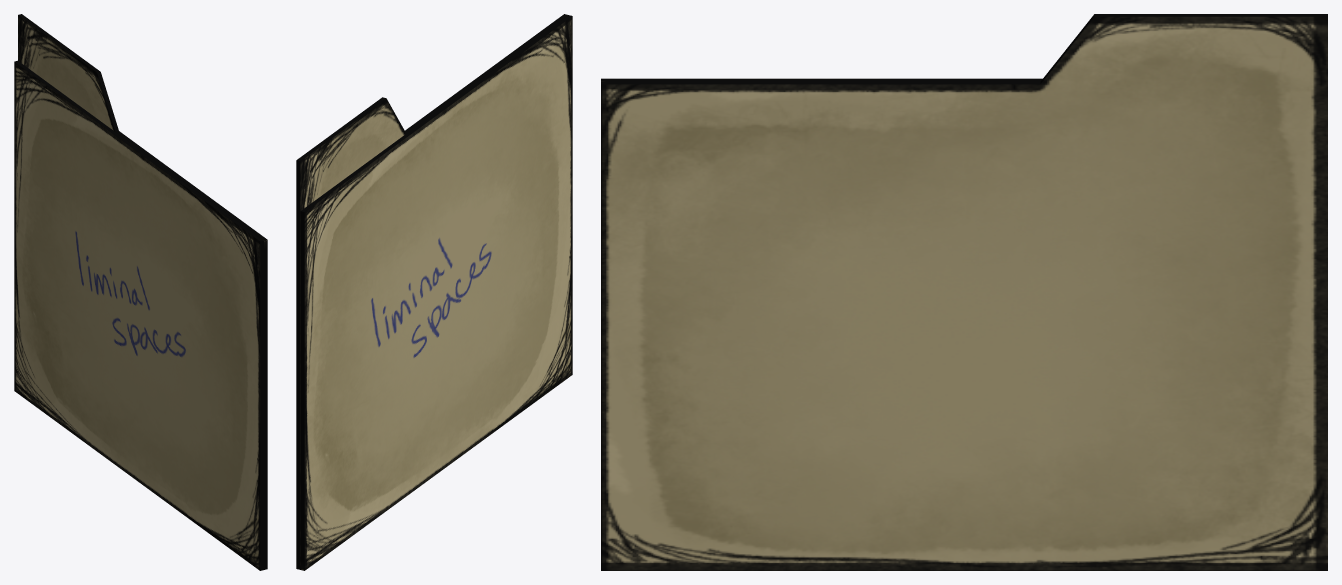
File: folder_glass.fbx
3 renders of one model, left to right at view 1: azimuth 30°, elevation 25°; view 2: azimuth 150°, elevation 25°; view 3: azimuth 270°, elevation 25°, orthographic. The views are drawn at different scales.
Visible parts, largest first — view 1: folder_front.003, folder_glass; view 2: folder_front.003, folder_glass; view 3: folder_glass, folder_front.003.
Part boxes in pixels (left/top/right/bottom): folder_front.003: left=14, top=60, right=263, bottom=570; folder_glass: left=18, top=14, right=267, bottom=569; folder_front.003: left=300, top=15, right=572, bottom=570; folder_glass: left=296, top=14, right=567, bottom=569; folder_glass: left=601, top=14, right=1327, bottom=570; folder_front.003: left=601, top=78, right=1042, bottom=81.
Size of the model in its own units: 1.13 by 53.74 by 63.85.
Materials: 2 (2 with a texture image).
